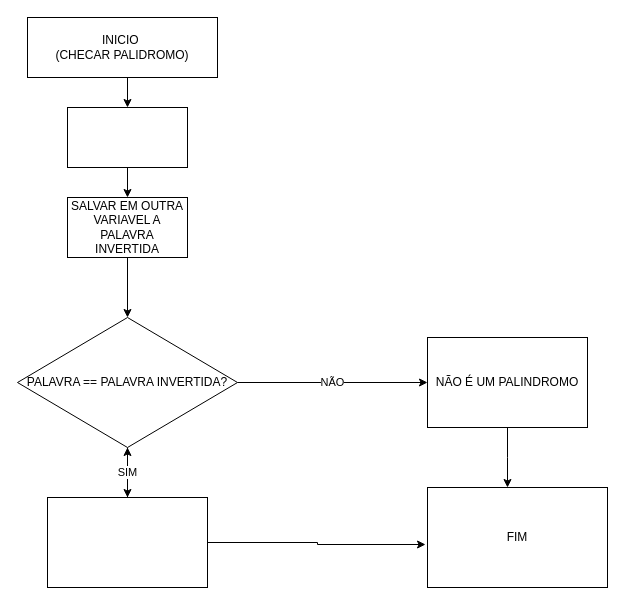
The diagram is 625 pixels wide and 605 high, and some of its shapes have lost their labels. The centre of each missing label's shape, as x and y in pixels:
RECEBER PALAVRA DO USUARIO: the point at 127,137
É UM PALINDROMO: the point at 127,542
